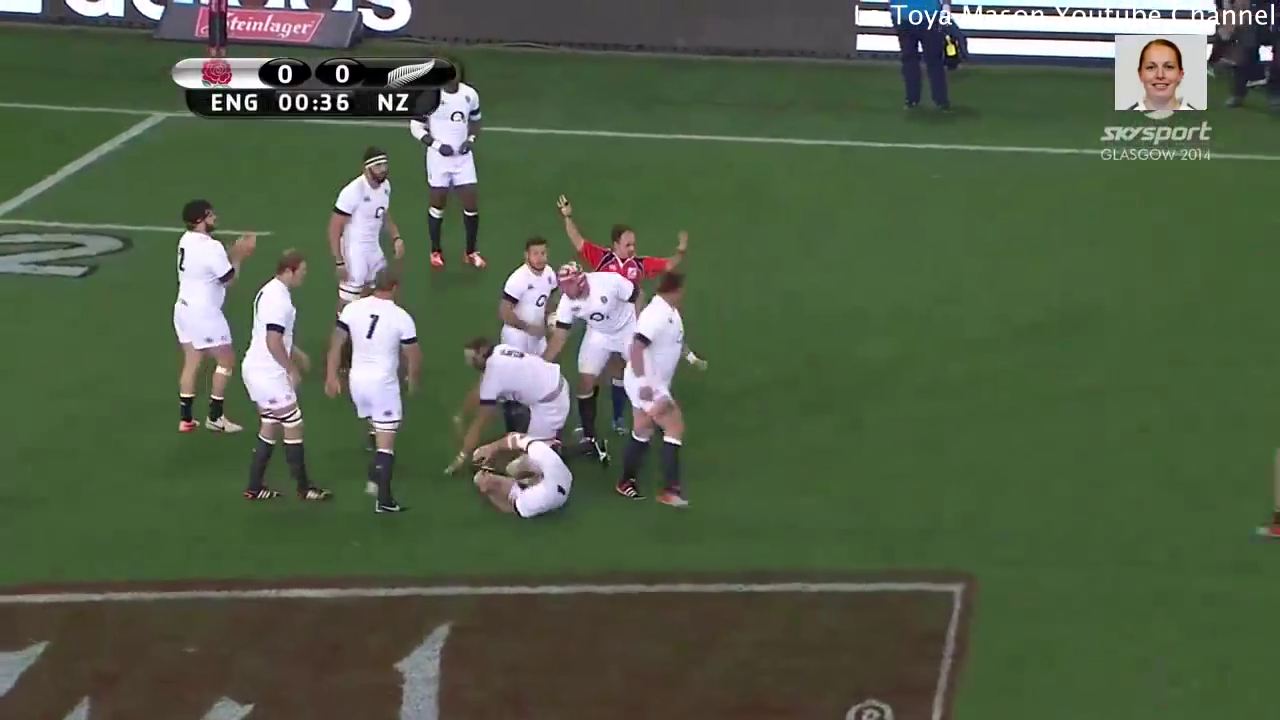player: (444, 324, 622, 503), (226, 241, 334, 512), (605, 265, 717, 520), (153, 192, 261, 447), (321, 264, 424, 528), (535, 246, 645, 459), (542, 170, 700, 299), (402, 60, 496, 275), (309, 136, 414, 320), (450, 418, 593, 531), (485, 228, 570, 372)
